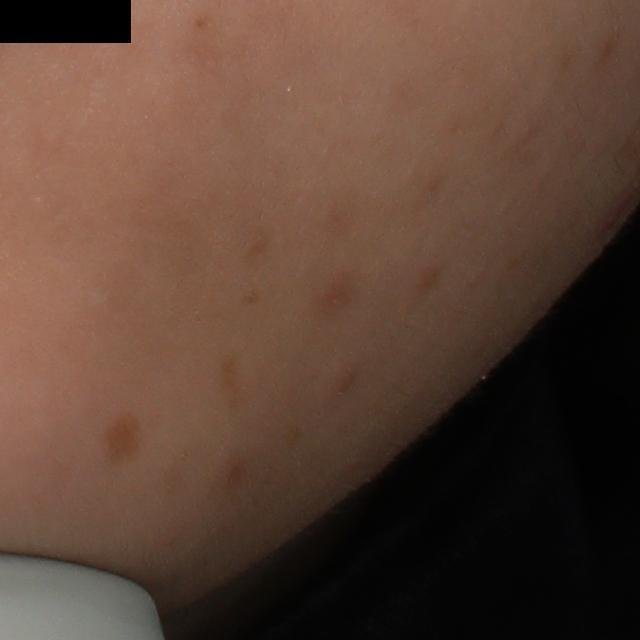papule: (416, 258, 443, 292), (330, 365, 355, 398)
